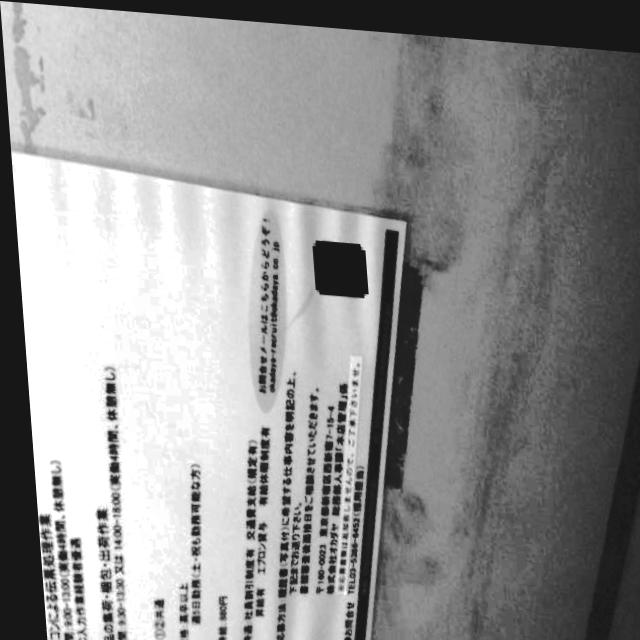qr_code: (310, 237, 363, 289)
